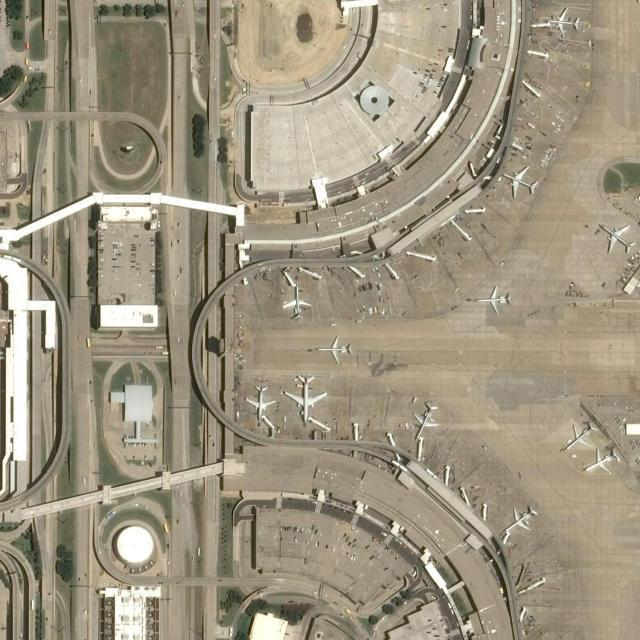Aircraft: (282, 372, 326, 424), (500, 162, 542, 200), (597, 218, 637, 256), (558, 414, 596, 454), (473, 282, 515, 316), (243, 382, 277, 424), (504, 500, 542, 537), (279, 282, 313, 322), (409, 398, 441, 440), (315, 331, 355, 364), (583, 442, 620, 476), (546, 4, 582, 36)
